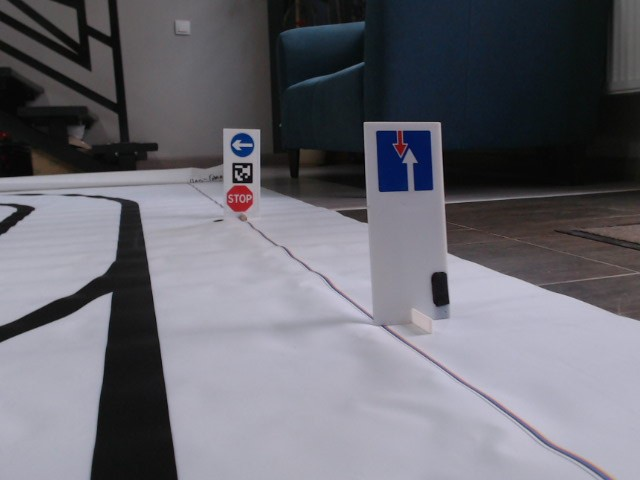Stop: (226, 184, 254, 212)
priority_movement: (375, 129, 435, 193)
